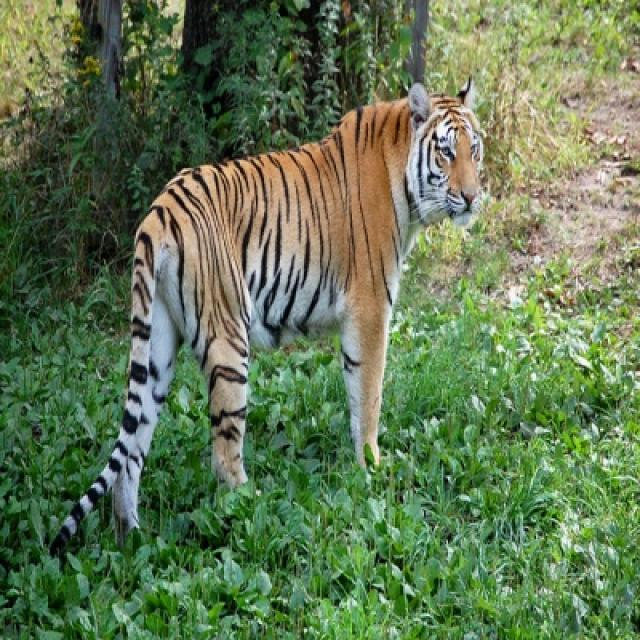Tiger: (46, 67, 487, 562)
